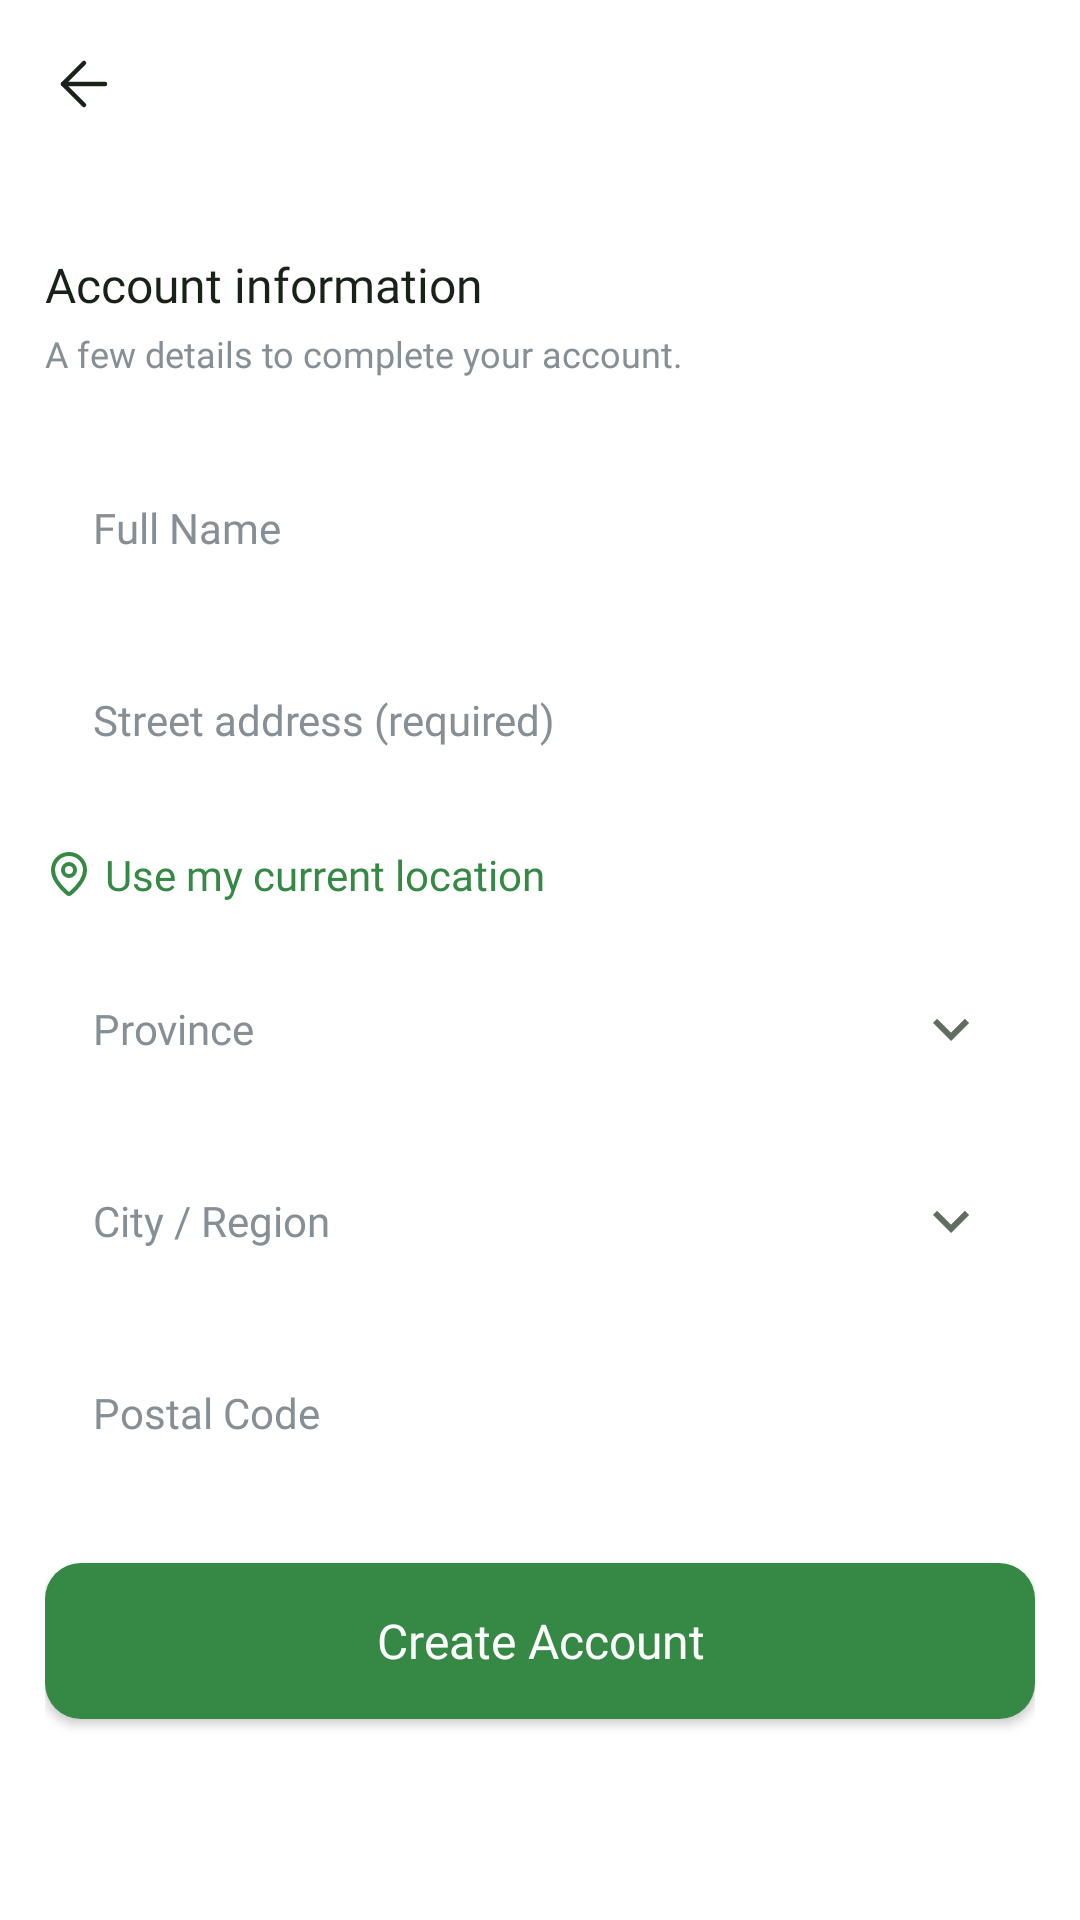

Locate icon controls on the screen. Image size 1080*1920, boxes as {"left": x1, "top": y1, "right": x2, "bottom": y2}.
Back: {"left": 60, "top": 60, "right": 107, "bottom": 108}
